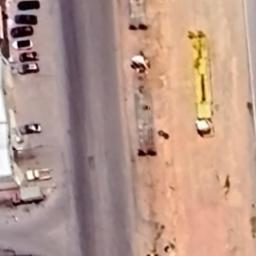pickup: (26, 167, 52, 182)
sedan: (13, 13, 40, 26), (18, 121, 42, 135), (10, 26, 36, 38), (17, 63, 42, 75), (17, 1, 42, 12), (11, 39, 34, 50), (20, 52, 40, 62)
truck: (186, 29, 216, 139), (129, 52, 158, 158)
